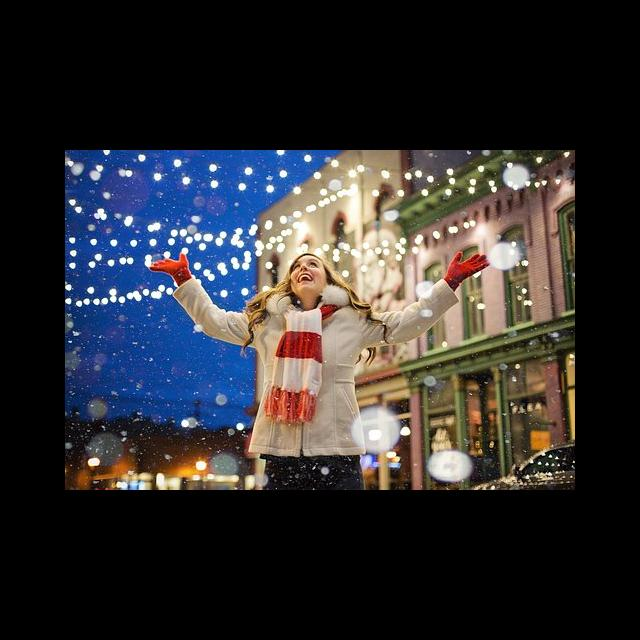female: (261, 241, 341, 307)
